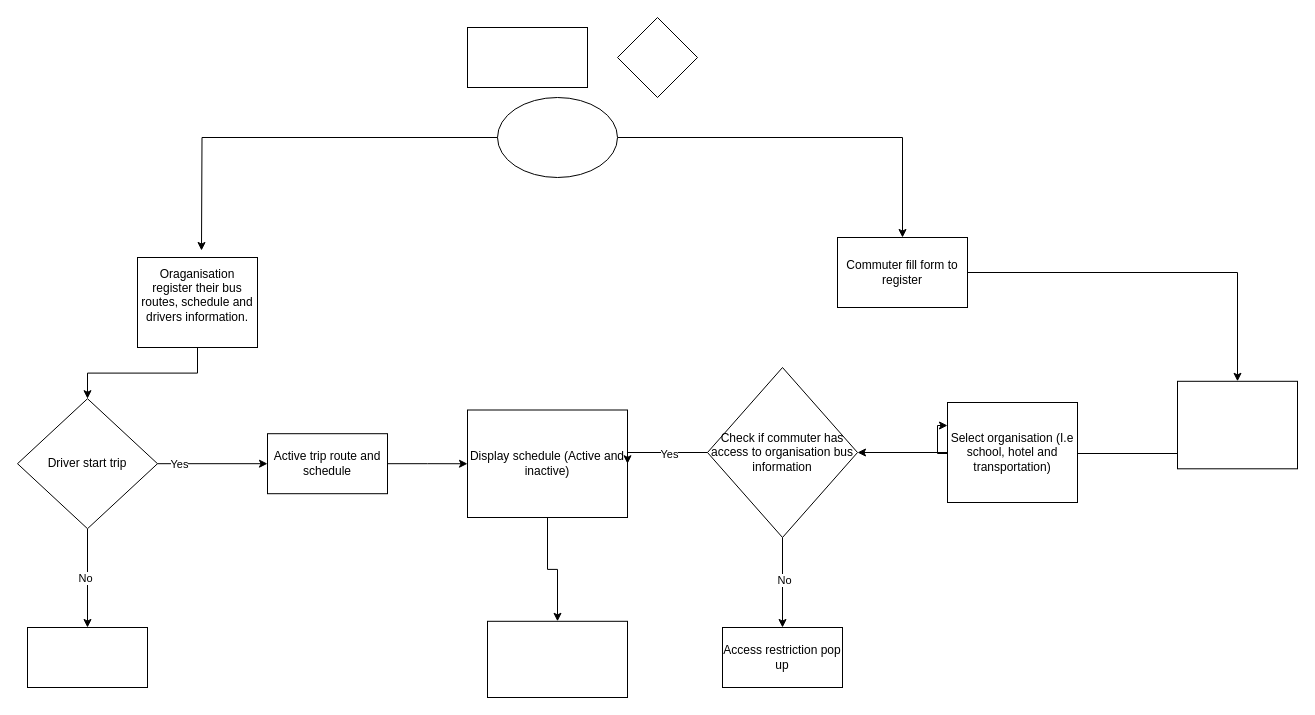
This 1315x715 diagram has some shape labels left out. The centre of each missing label's shape, as x and y in pixels:
"Commuters login to the system." belongs at point 1237,424.
"Decision" belongs at point 657,57.
"Process" belongs at point 527,57.
"START" belongs at point 557,137.
